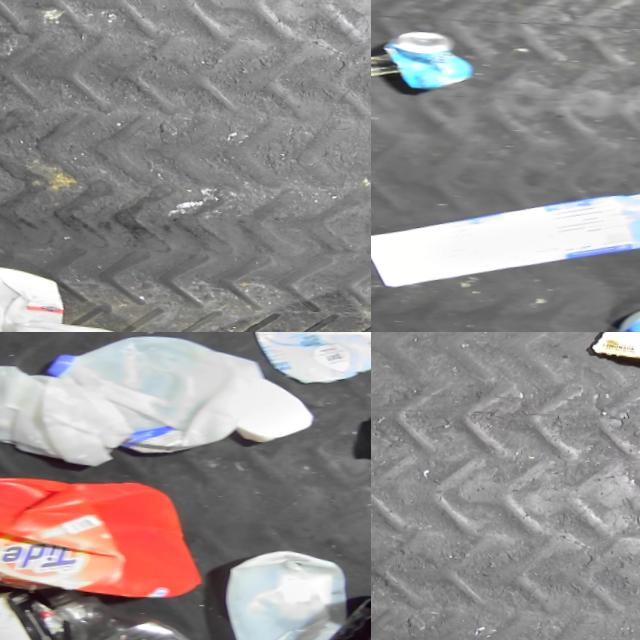can: (377, 29, 481, 100)
milk_jug: (35, 332, 267, 472), (0, 353, 136, 478), (217, 546, 360, 640), (0, 259, 68, 332), (14, 314, 162, 332)
non_white_jug: (0, 457, 220, 616)
plastic_bottle: (30, 581, 226, 640)
